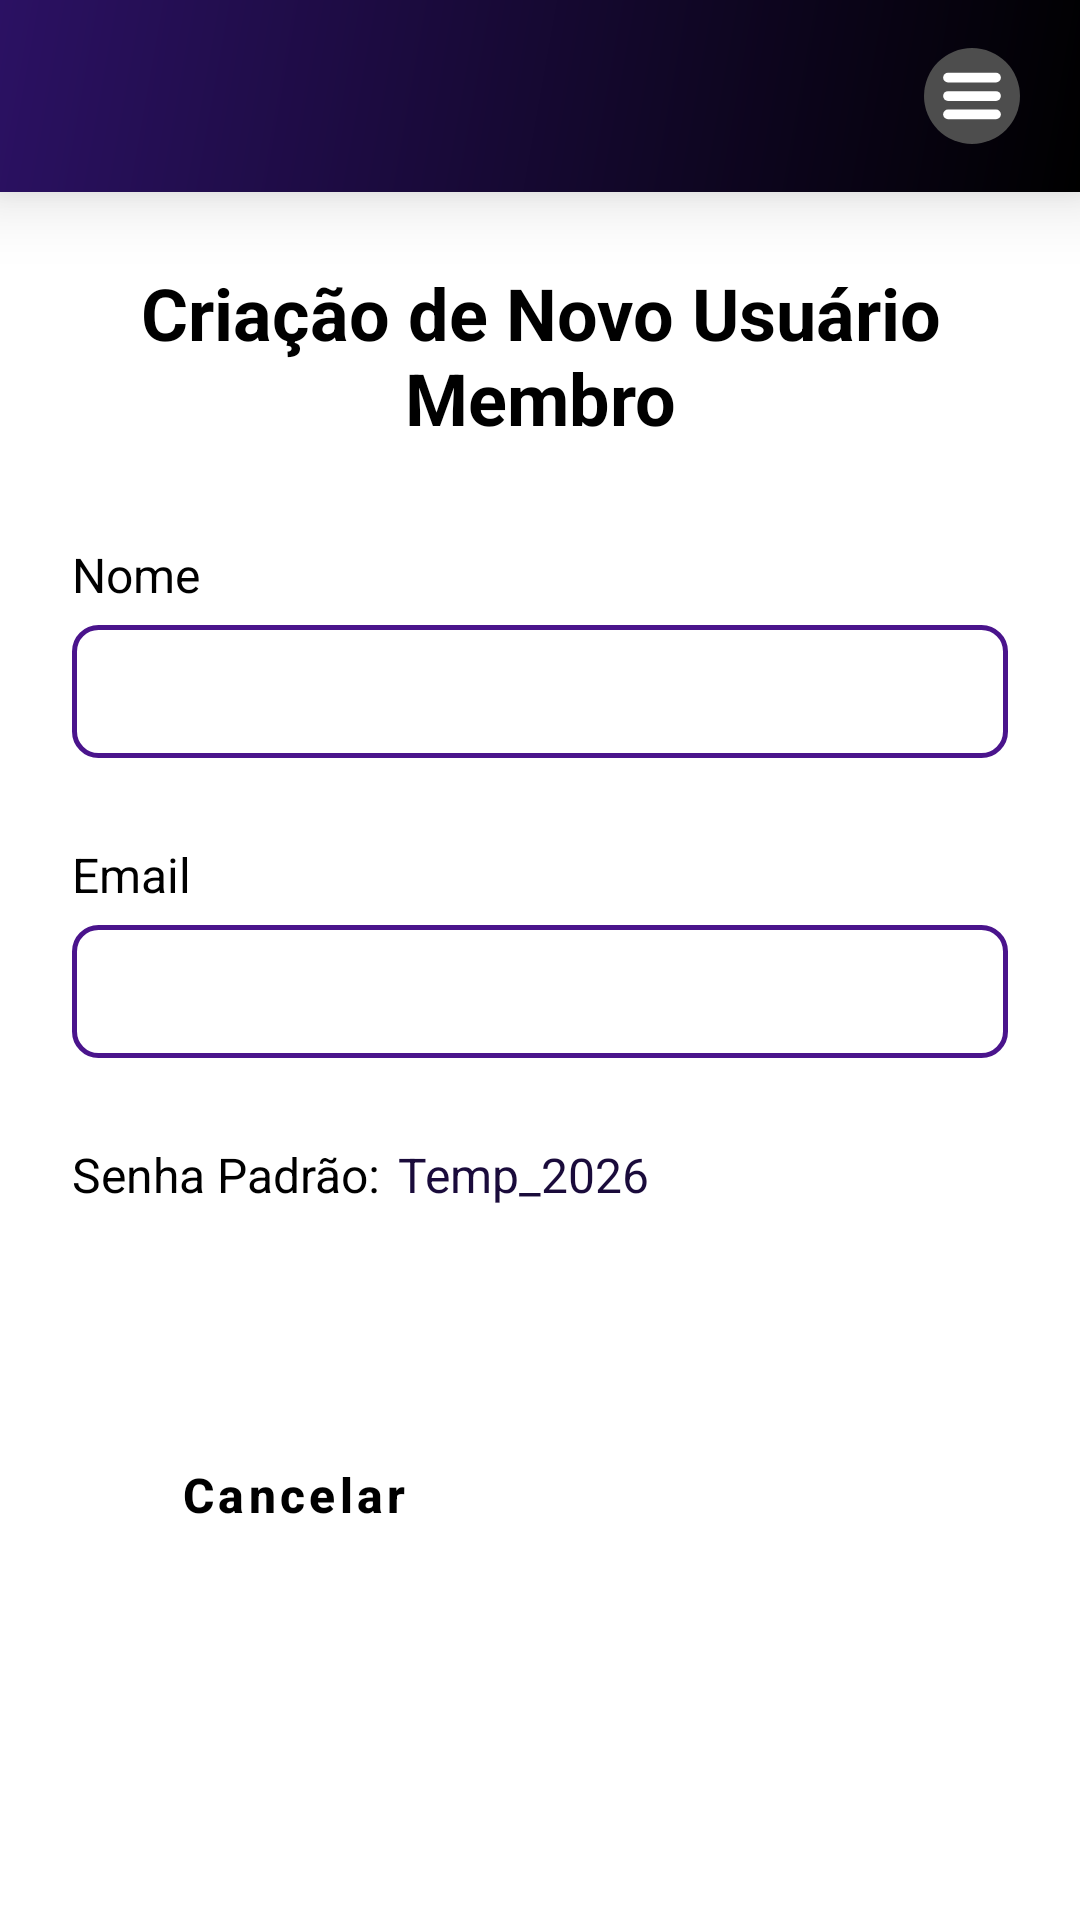

Icons on this 1080x1920 Android screen, each with its box as (x1, y1, x2, y2):
Menu: (924, 48, 1020, 144)
